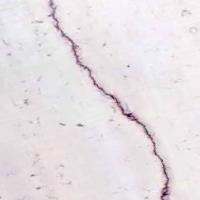crack: (44, 1, 176, 197)
